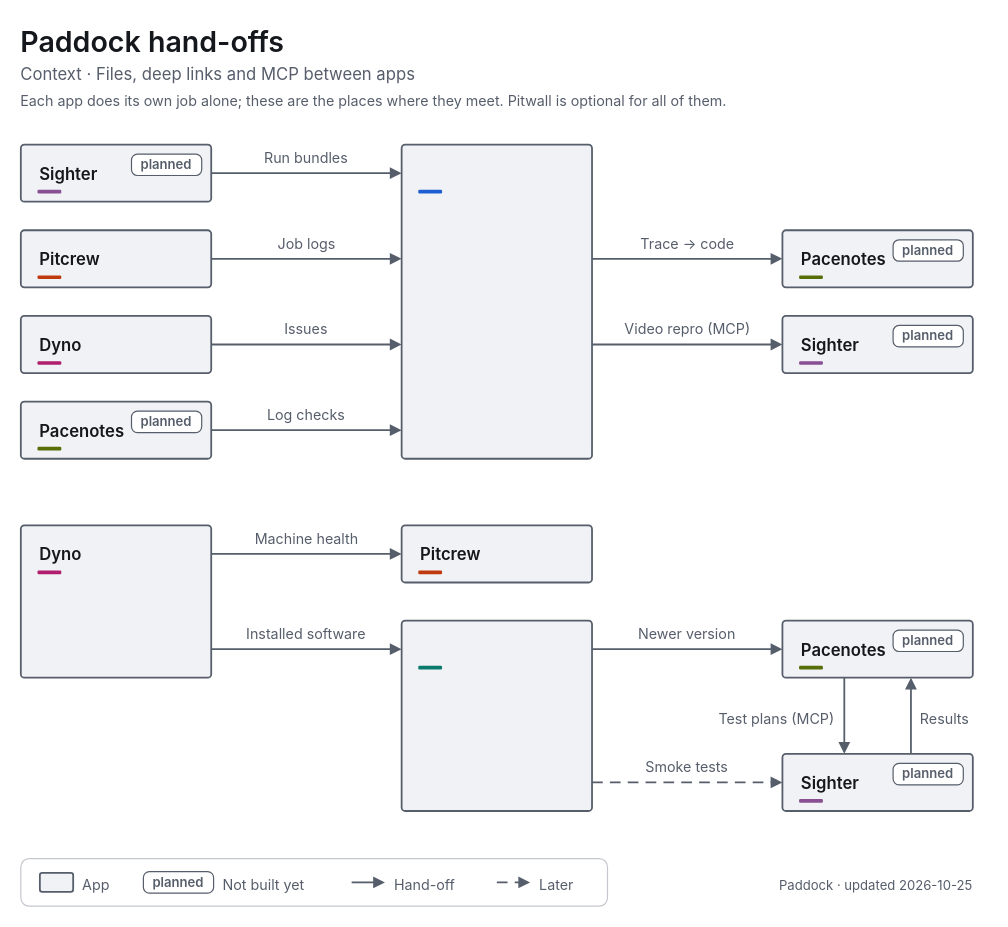
The diagram is 1008 pixels wide and 927 high, and some of its shapes have lost their labels. Here are the shapes that lost their labels. From the top down, the centre of each, then its label:
At (x=496, y=301): "Debrief".
At (x=496, y=715): "Spotter".
